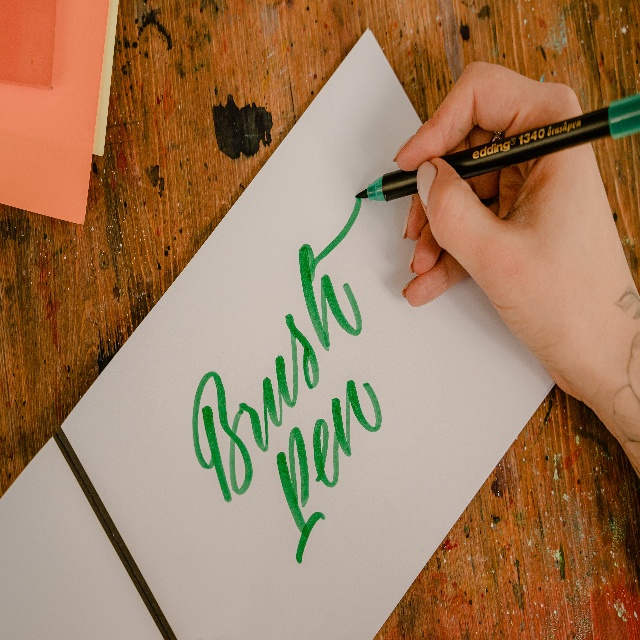Sin_guantes: (392, 58, 640, 405)
